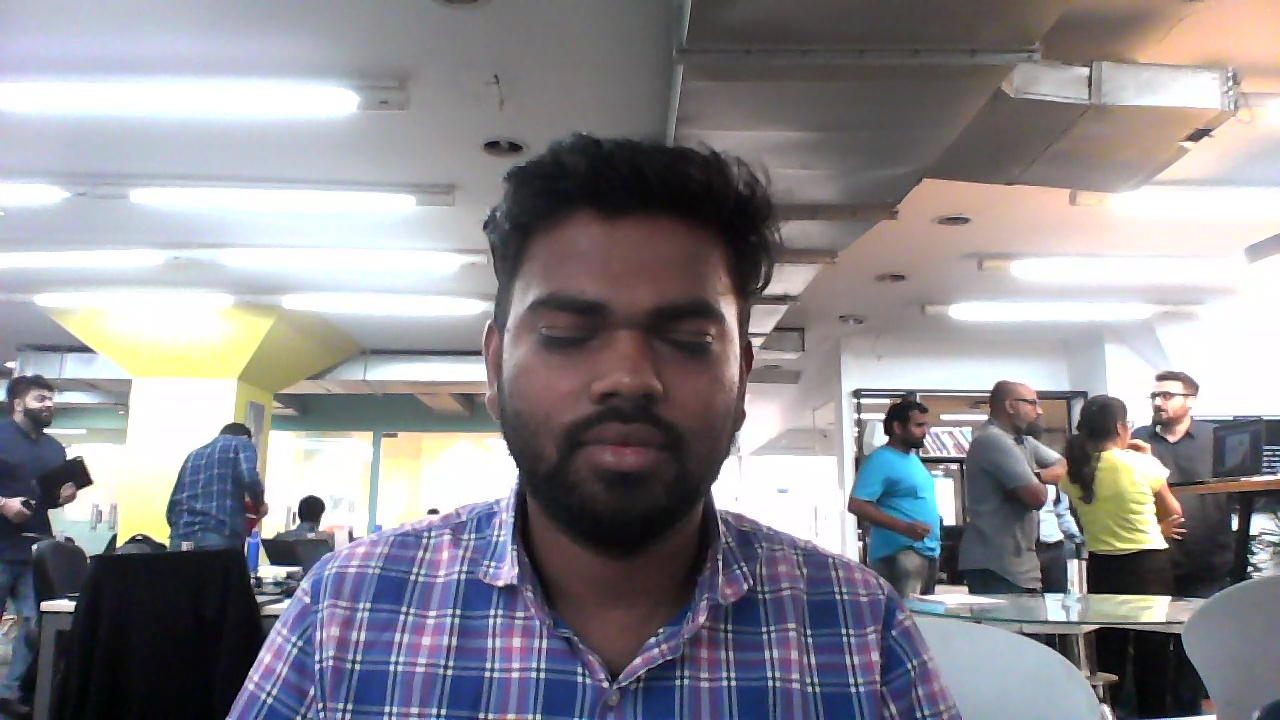closed: (484, 134, 763, 560)
